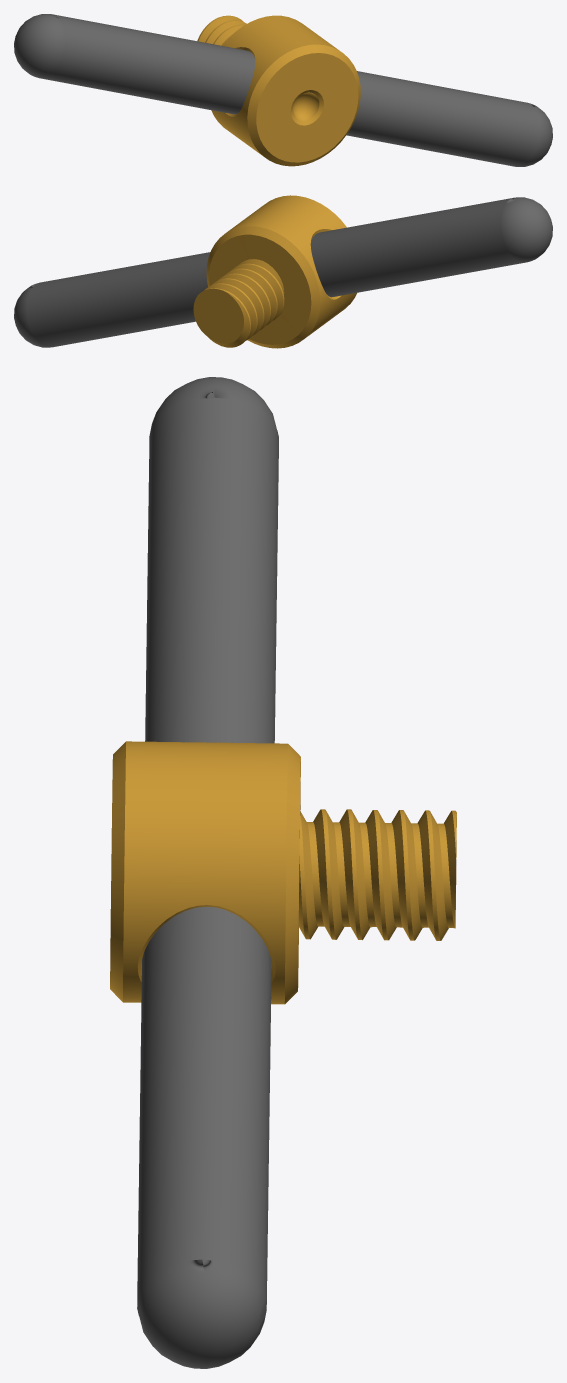
Rendered from knob5 2.glb.
3 renders of one model, top to bottom at view 1: azimuth 30°, elevation 25°; view 2: azimuth 150°, elevation 25°; view 3: azimuth 270°, elevation 25°, orthographic. The views are drawn at different scales.
Parts seen in each view (by area): view 1: JEB13888A62kjp053; view 2: JEB13888A62kjp053; view 3: JEB13888A62kjp053.
Boxes of the visible parts, x1,y1,x2,y2 form: JEB13888A62kjp053: (14, 14, 552, 166); JEB13888A62kjp053: (14, 195, 552, 348); JEB13888A62kjp053: (110, 377, 456, 1368).
Size of the model in its own units: 0.0592 by 0.0279 by 0.0169.
